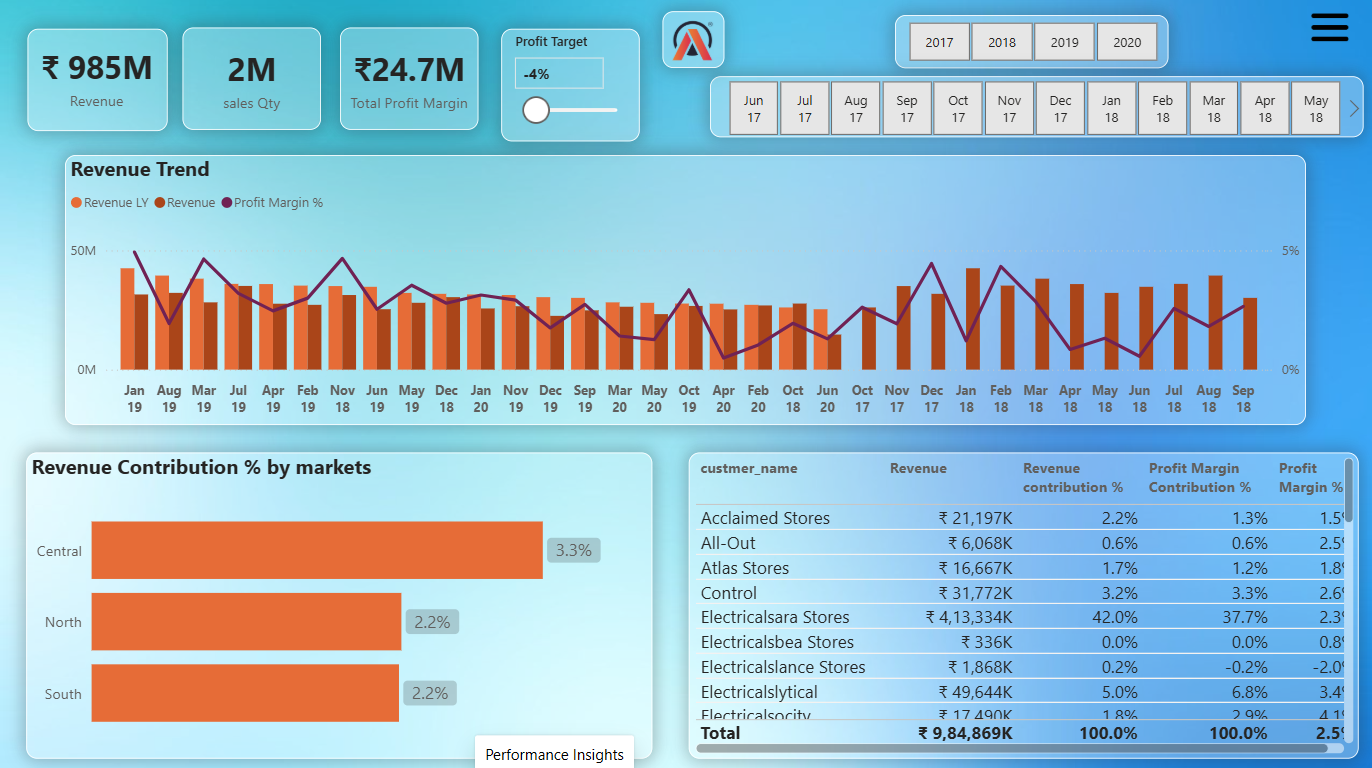

What the dashboard file says about the page in this screenshot:
{"tool":"powerbi","page":{"name":"Performance Insights","canvas":[1280,720],"ordinal":2},"visuals":[{"type":"image","box":[1214.8,3,44.4,44.4],"z":0},{"type":"shape","box":[25.3,26.5,130.3,95.3],"z":5000},{"type":"card","fields":{"Values":["Base Measures 2.Revenue"]},"box":[25.3,25.3,129,91.7],"z":6000},{"type":"shape","box":[24.1,420.9,582.5,284.6],"z":7000},{"type":"barChart","title":"Revenue Contribution % by markets","fields":{"Category":["sales markets.zone","sales markets.markets_name"],"Y":["Base Measures 2.Profit Margin %"]},"box":[24.1,420.9,582.5,284.6],"z":8000},{"type":"shape","box":[60.3,144.7,1154.2,250.9],"z":9000},{"type":"lineClusteredColumnComboChart","title":"Revenue Trend","fields":{"Category":["sales date.cy_date"],"Y":["Base Measures 2.Revenue LY","Base Measures 2.Revenue"],"Y2":["Base Measures 2.Profit Margin %"]},"box":[60.3,144.7,1154.2,250.9],"z":10000},{"type":"shape","box":[640.4,420.9,623.5,284.6],"z":11000},{"type":"tableEx","title":"Top 5 customer","fields":{"Values":["sales customers.custmer_name","Base Measures 2.Revenue","Base Measures 2.Revenue contribution %","Base Measures 2.Profit Margin Contribution %","Base Measures 2.Profit Margin %"]},"box":[640.4,420.9,623.5,284.6],"z":12000},{"type":"shape","box":[832.2,14.5,254.5,49.4],"z":13000},{"type":"slicer","fields":{"Values":["sales date.year"]},"box":[820.1,14.5,281,49.4],"z":14000},{"type":"shape","box":[660.9,71.2,607.8,56.7],"z":15000},{"type":"slicer","fields":{"Values":["sales date.cy_date"]},"box":[652.5,68.7,618.7,63.9],"z":16000},{"type":"shape","box":[170.1,25.3,129,95.3],"z":17000},{"type":"shape","box":[316,25.3,129,95.3],"z":18000},{"type":"shape","box":[466.7,26.5,129,104.9],"z":19000},{"type":"card","fields":{"Values":["Base Measures 2.sales Qty"]},"box":[170.1,25.3,129,95.3],"z":20000},{"type":"card","fields":{"Values":["Base Measures 2.Total Profit Margin"]},"box":[316,25.3,129,95.3],"z":21000},{"type":"slicer","fields":{"Values":["Profit Target.Profit Target"]},"box":[466.7,25.3,129,104.9],"z":22000},{"type":"shape","box":[616.3,10.9,57.9,53.1],"z":23000},{"type":"image","box":[617.5,14.5,54.3,47],"z":24000}]}

Visuals, with their boxes in screenshot pixels (x1, y1, x2, y2), scaled from the page's 1280x720 canvas onto the 1372x768 screenshot:
image: box(1302, 3, 1350, 51)
shape: box(27, 28, 167, 130)
card - Base Measures 2.Revenue: box(27, 27, 165, 125)
shape: box(26, 449, 650, 753)
"Revenue Contribution % by markets" barChart: box(26, 449, 650, 753)
shape: box(65, 154, 1302, 422)
"Revenue Trend" lineClusteredColumnComboChart: box(65, 154, 1302, 422)
shape: box(686, 449, 1355, 753)
"Top 5 customer" tableEx: box(686, 449, 1355, 753)
shape: box(892, 15, 1165, 68)
slicer - sales date.year: box(879, 15, 1180, 68)
shape: box(708, 76, 1360, 136)
slicer - sales date.cy_date: box(699, 73, 1363, 141)
shape: box(182, 27, 321, 129)
shape: box(339, 27, 477, 129)
shape: box(500, 28, 639, 140)
card - Base Measures 2.sales Qty: box(182, 27, 321, 129)
card - Base Measures 2.Total Profit Margin: box(339, 27, 477, 129)
slicer - Profit Target.Profit Target: box(500, 27, 639, 139)
shape: box(661, 12, 723, 68)
image: box(662, 15, 720, 66)
